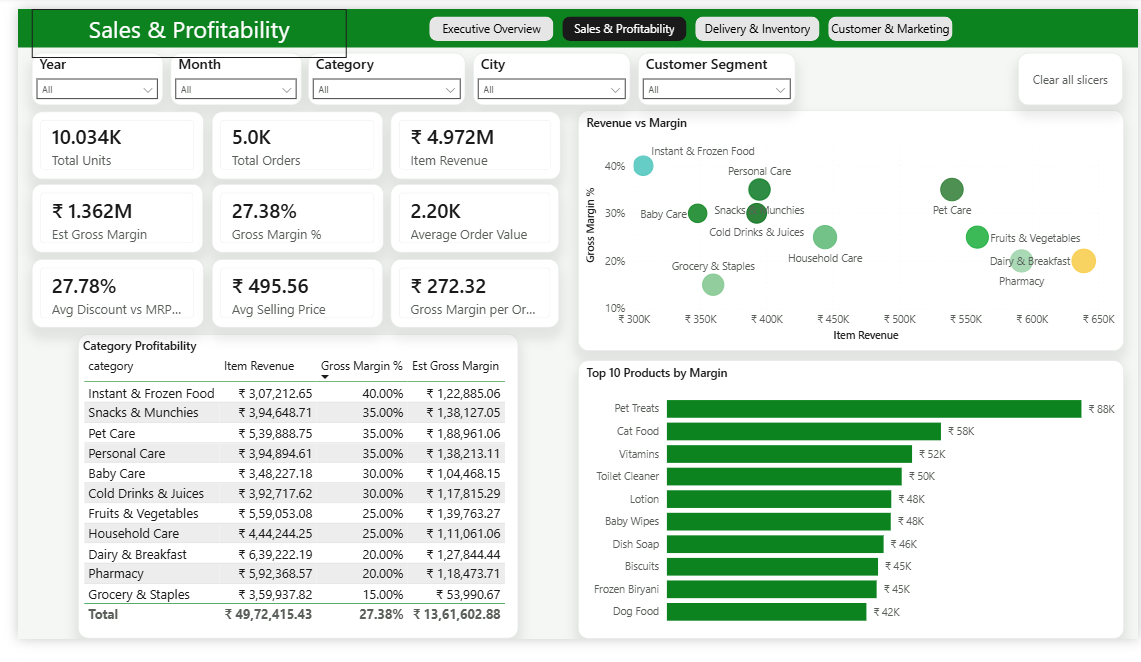

Layout of this report page (visuals, bound fields, positions):
{"tool":"powerbi","page":{"name":"Sales & Profitability","canvas":[1280,720],"ordinal":1},"visuals":[{"type":"tableEx","title":"Category Profitability","fields":{"Values":["Products.category","Measure Table.Item Revenue","Measure Table.Gross Margin %","Measure Table.Est Gross Margin"]},"box":[68.3,371.7,503.3,348.3],"z":0},{"type":"scatterChart","title":"Revenue vs Margin","fields":{"X":["Measure Table.Item Revenue"],"Y":["Measure Table.Gross Margin %"],"Size":["Measure Table.Total Units"],"Series":["Products.category"]},"box":[640,116.2,623.8,275],"z":1000},{"type":"barChart","title":"Top 10 Products by Margin","fields":{"Category":["Products.product_name"],"Y":["Measure Table.Est Gross Margin"]},"box":[640,401.2,623.8,318.8],"z":2000},{"type":"slicer","title":"Year","fields":{"Values":["Date.Year"]},"box":[15.7,50,150,60],"z":3000},{"type":"slicer","fields":{"Values":["Date.Month Name"]},"box":[174,50,150,60],"z":4000},{"type":"slicer","fields":{"Values":["Products.category"]},"box":[332,50,180,60],"z":5000},{"type":"slicer","title":"Filter by City","fields":{"Values":["Customers.area"]},"box":[520,50,180,60],"z":6000},{"type":"textbox","box":[0,0,1280,44],"z":7000},{"type":"textbox","box":[16,0,360,55.7],"z":8000},{"type":"pageNavigator","box":[470,8,600,28.6],"z":9000},{"type":"slicer","title":"Filter by City","fields":{"Values":["Customers.customer_segment"]},"box":[708,50,180,60],"z":10000},{"type":"actionButton","box":[1142.5,50,120,60],"z":11000},{"type":"cardVisual","fields":{"Data":["Measure Table.Total Units"]},"box":[15.2,117,197,77.8],"z":12000},{"type":"cardVisual","fields":{"Data":["Measure Table.Total Orders"]},"box":[221.7,117,196.1,77.8],"z":13000},{"type":"cardVisual","fields":{"Data":["Measure Table.Item Revenue"]},"box":[425.6,117.4,194.8,77.8],"z":14000},{"type":"cardVisual","fields":{"Data":["Measure Table.Est Gross Margin"]},"box":[16.1,200,195.7,78.3],"z":15000},{"type":"cardVisual","fields":{"Data":["Measure Table.Gross Margin %"]},"box":[221.3,200,196.5,78.3],"z":16000},{"type":"cardVisual","fields":{"Data":["Measure Table.Average Order Value"]},"box":[425.6,200,193,78.3],"z":17000},{"type":"cardVisual","fields":{"Data":["Measure Table.Avg Discount vs MRP %"]},"box":[15.2,286.1,196.5,78.3],"z":18000},{"type":"cardVisual","fields":{"Data":["Measure Table.Avg Selling Price"]},"box":[221.7,286.1,196.1,78.3],"z":19000},{"type":"cardVisual","fields":{"Data":["Measure Table.Gross Margin per Order"]},"box":[425.6,286.1,193,78.7],"z":20000}]}

Visuals, with their boxes on the page's 1280x720 design canvas (x1, y1, x2, y2). These are canvas units, not pixel positions in the 1141x662 screenshot, which may show the page scaled, cropped or inside an application window:
"Category Profitability" tableEx: <region>68, 372, 572, 720</region>
"Revenue vs Margin" scatterChart: <region>640, 116, 1264, 391</region>
"Top 10 Products by Margin" barChart: <region>640, 401, 1264, 720</region>
"Year" slicer: <region>16, 50, 166, 110</region>
slicer - Date.Month Name: <region>174, 50, 324, 110</region>
slicer - Products.category: <region>332, 50, 512, 110</region>
"Filter by City" slicer: <region>520, 50, 700, 110</region>
textbox: <region>0, 0, 1280, 44</region>
textbox: <region>16, 0, 376, 56</region>
pageNavigator: <region>470, 8, 1070, 37</region>
"Filter by City" slicer: <region>708, 50, 888, 110</region>
actionButton: <region>1142, 50, 1262, 110</region>
cardVisual - Measure Table.Total Units: <region>15, 117, 212, 195</region>
cardVisual - Measure Table.Total Orders: <region>222, 117, 418, 195</region>
cardVisual - Measure Table.Item Revenue: <region>426, 117, 620, 195</region>
cardVisual - Measure Table.Est Gross Margin: <region>16, 200, 212, 278</region>
cardVisual - Measure Table.Gross Margin %: <region>221, 200, 418, 278</region>
cardVisual - Measure Table.Average Order Value: <region>426, 200, 619, 278</region>
cardVisual - Measure Table.Avg Discount vs MRP %: <region>15, 286, 212, 364</region>
cardVisual - Measure Table.Avg Selling Price: <region>222, 286, 418, 364</region>
cardVisual - Measure Table.Gross Margin per Order: <region>426, 286, 619, 365</region>
